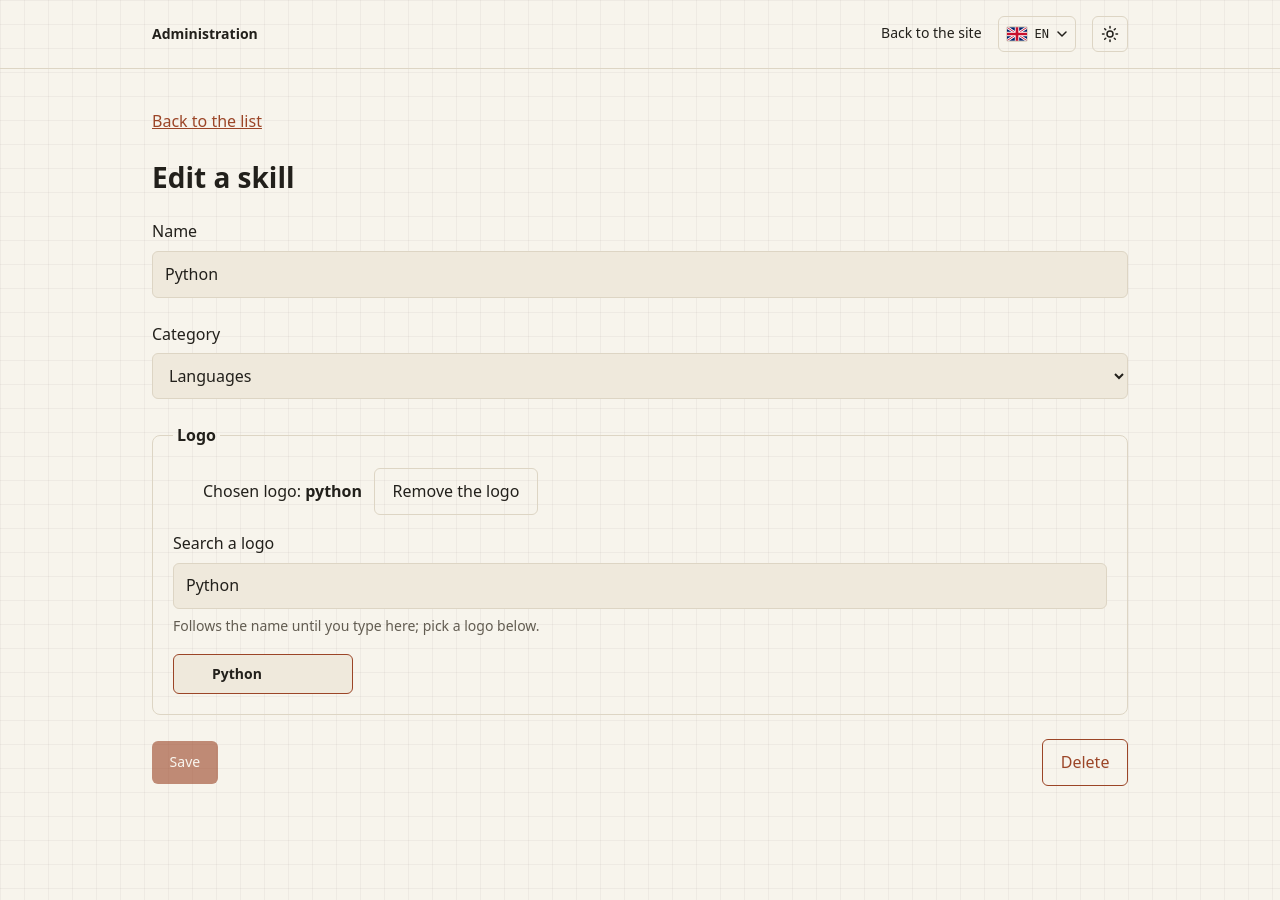
editing a skill › asks before deleting, then goes back to the list
The width and height of the screenshot is (1280, 900).
Click the button "Delete": coordinates (1085, 762) [1042,739,1128,786]
(page scrolled)
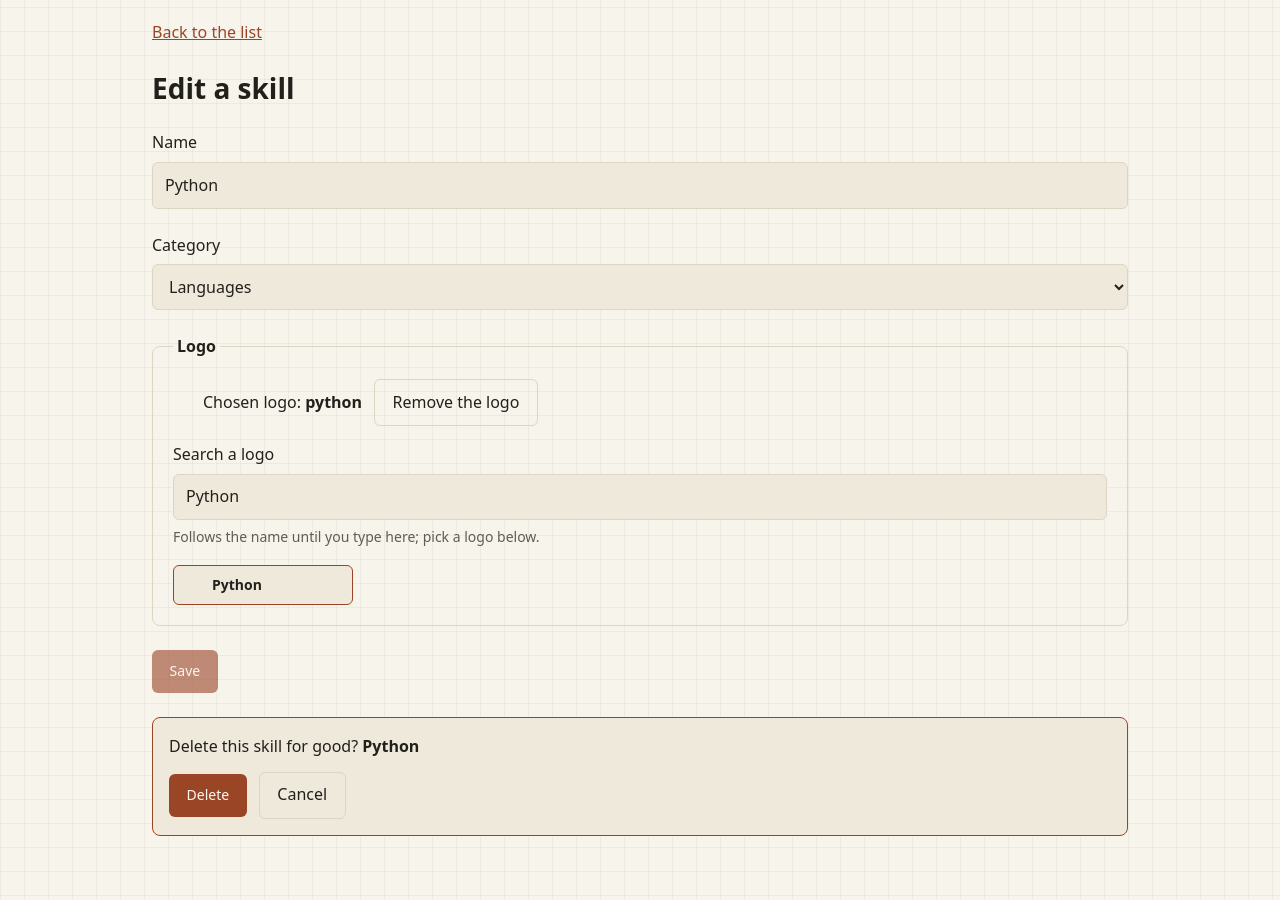
Now the dialog shows "Python", box [362,735,419,757]
Click the button "Cancel": coordinates (302, 795) [259,772,346,819]
(page scrolled)
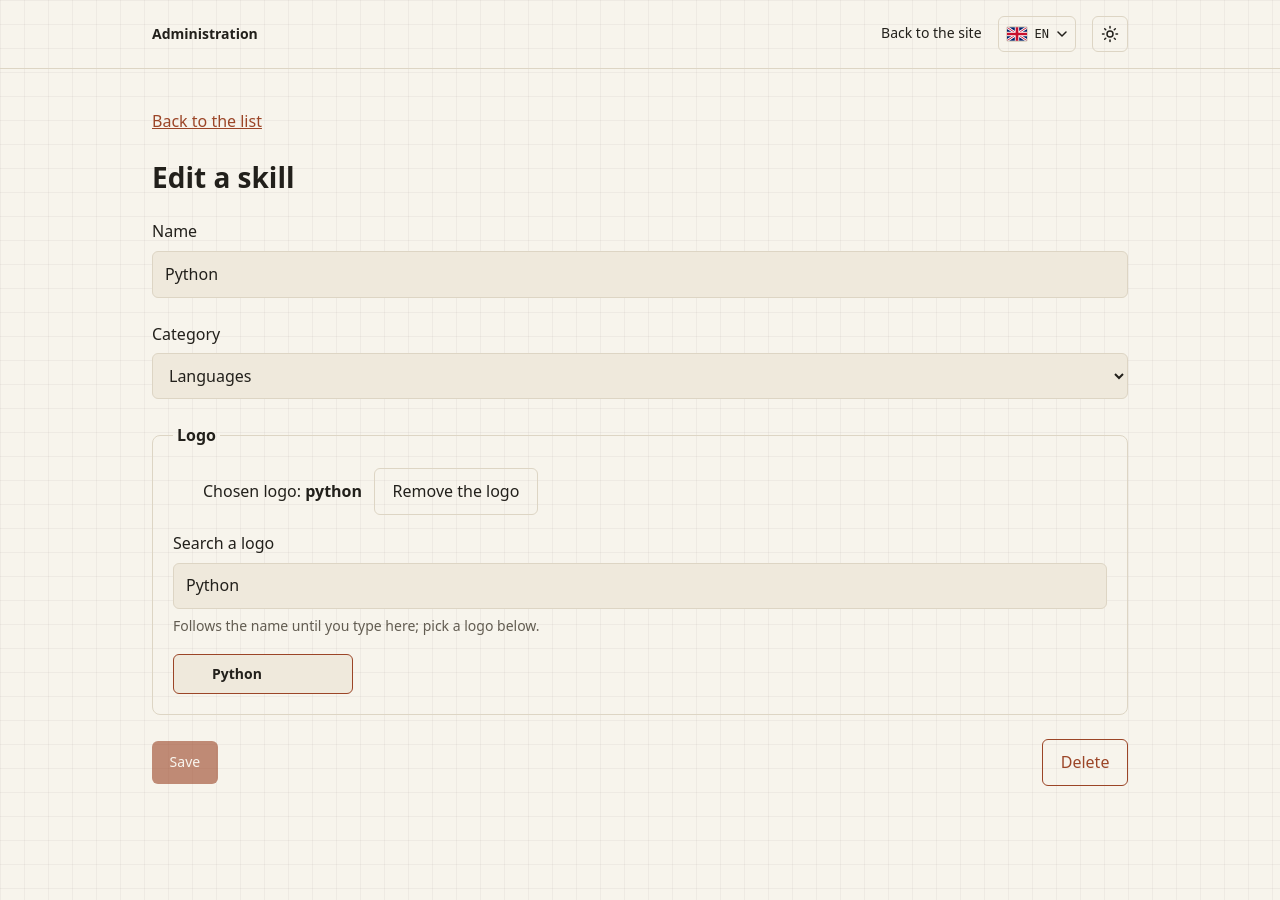
Click the button "Delete": coordinates (1085, 762) [1042,739,1128,786]
(page scrolled)
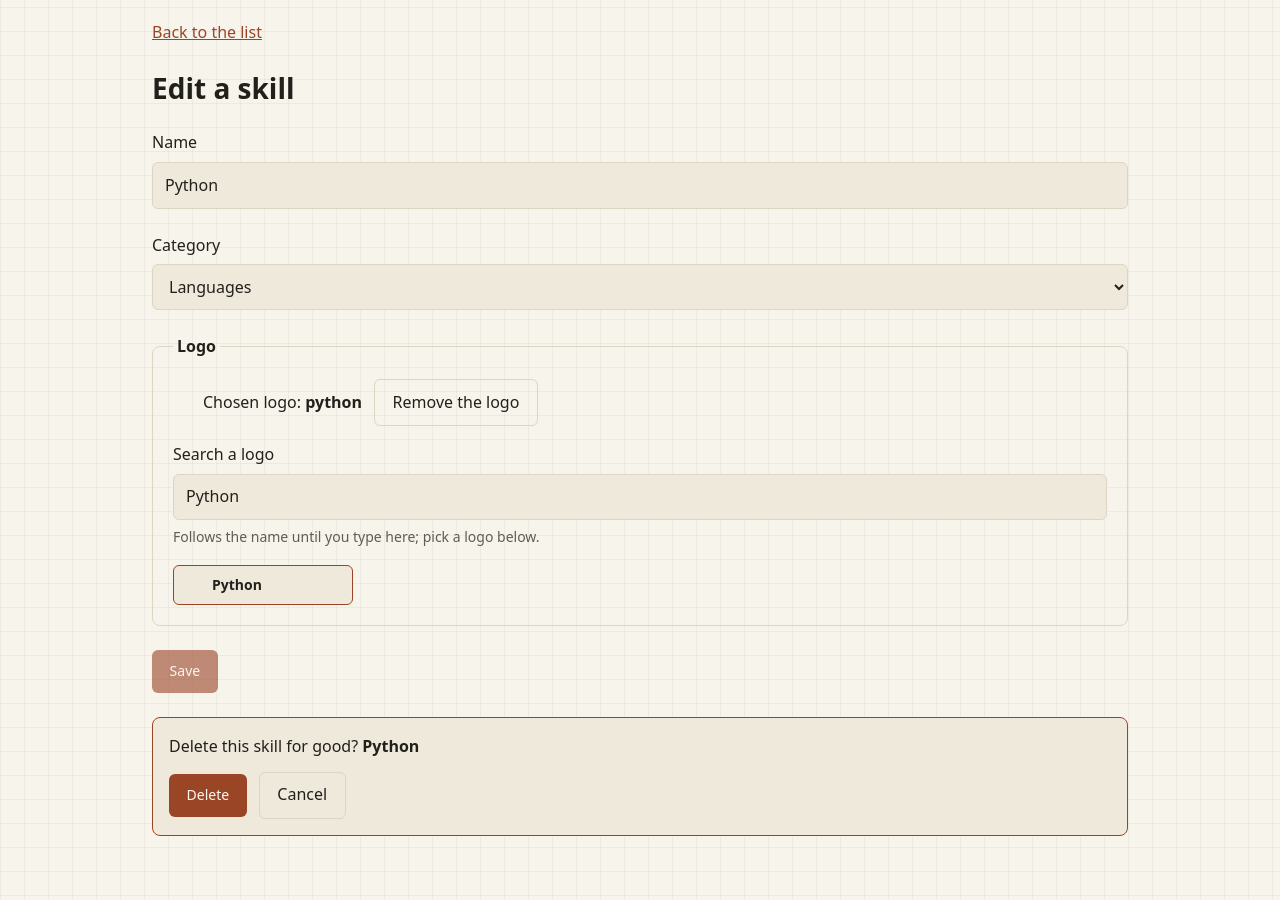
Click the button "Delete": coordinates (208, 795) [169,774,247,817]
(page scrolled)
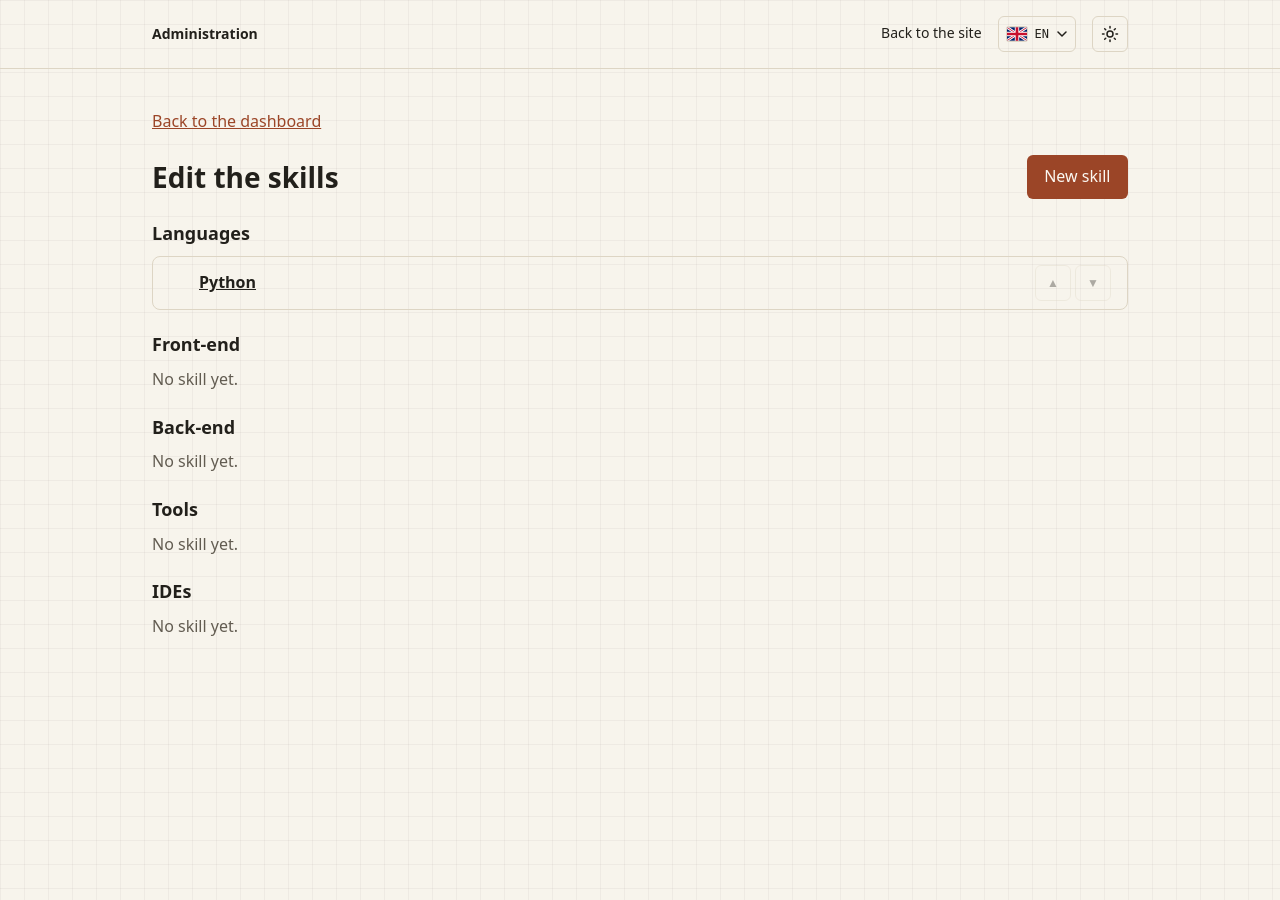
Now the heading "Edit the skills" is shown, box [152,155,339,199]
